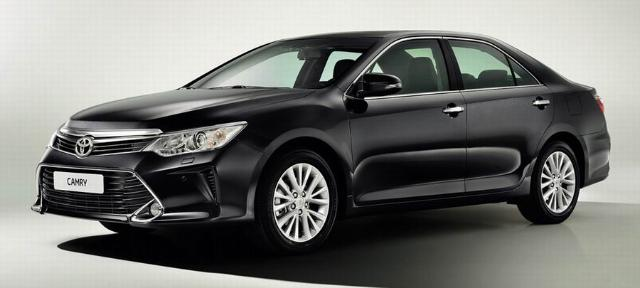toyota: (31, 31, 611, 256)
